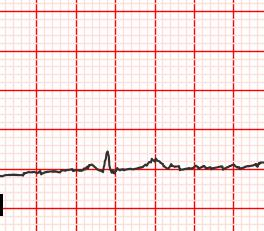Poor R Progression: (99, 147, 115, 173)
